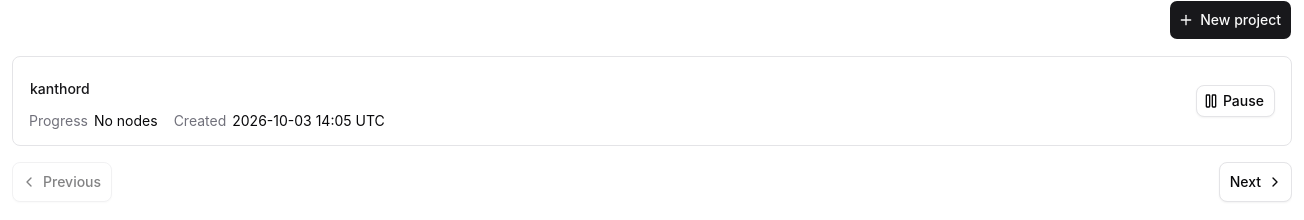
Test: ProjectsScreen › reads the next page at the cursor
Step 1. Click the button "Next" → (1255, 182), box [1219, 162, 1292, 202]
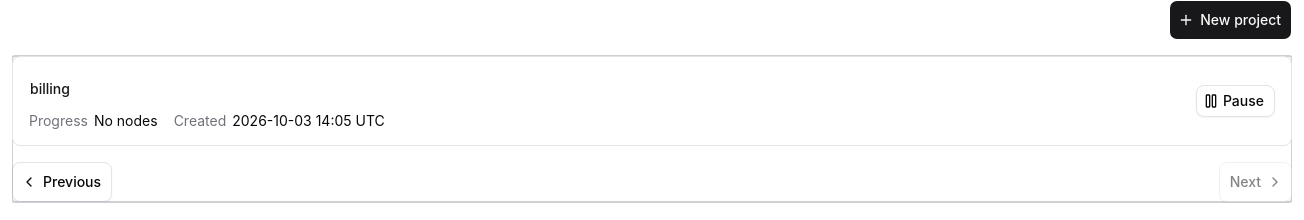
Expected: the button with aria-label "Open billing" is shown, [29, 71, 81, 107]
